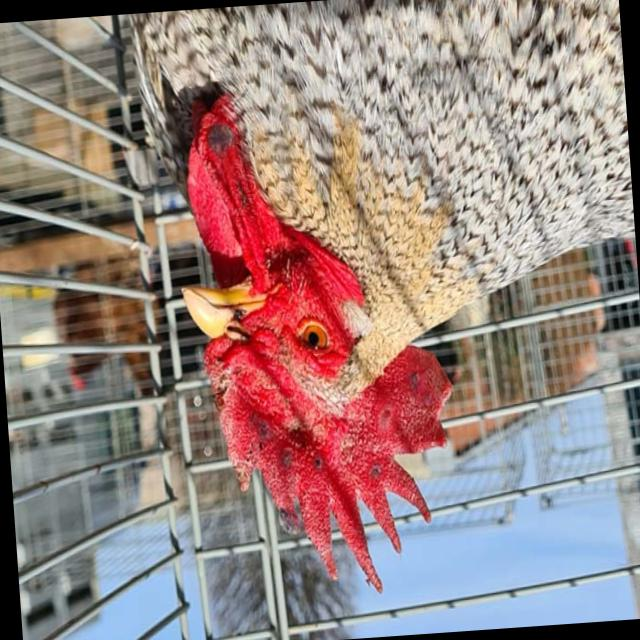Fowlpox: (172, 116, 428, 585)
